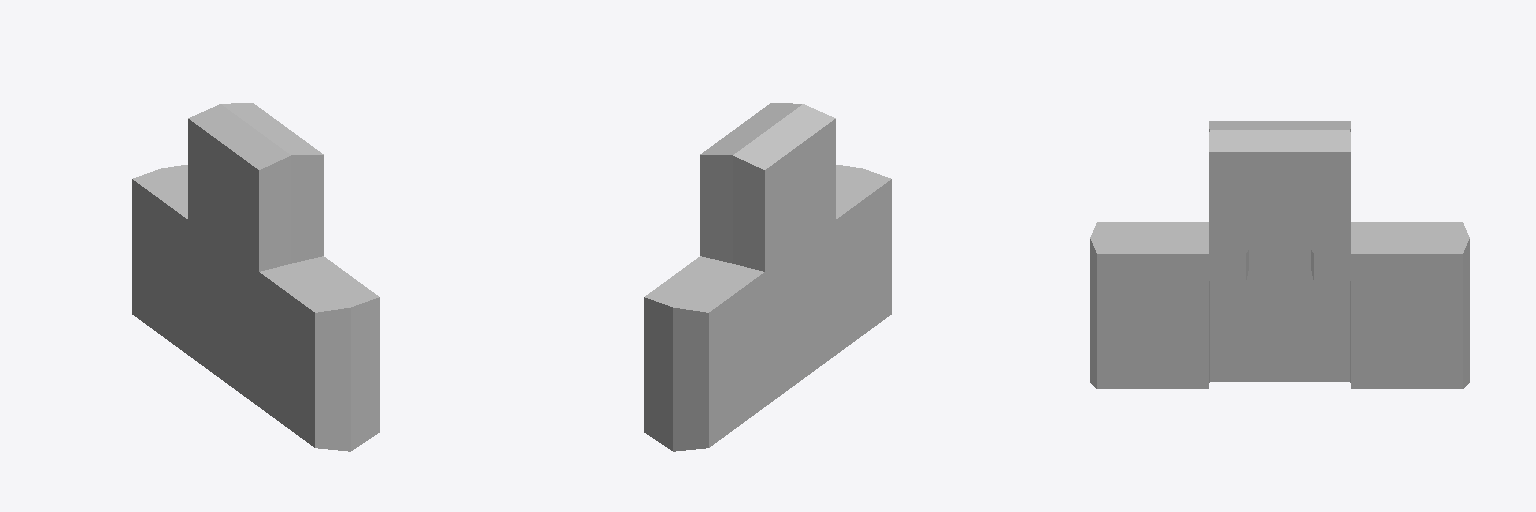
The model's file is static_forward_2.obj.
3 renders of one model, left to right at view 1: azimuth 30°, elevation 25°; view 2: azimuth 150°, elevation 25°; view 3: azimuth 270°, elevation 25°, orthographic.
Parts seen in each view (by area): view 1: Cube_Cube.006; view 2: Cube_Cube.006; view 3: Cube_Cube.006.
Boxes of the visible parts, x1,y1,x2,y2 form: Cube_Cube.006: [132, 103, 379, 451]; Cube_Cube.006: [644, 103, 891, 451]; Cube_Cube.006: [1090, 121, 1469, 388].
Bounding box in the file's own units: 1.92 × 7.18 × 9.78.